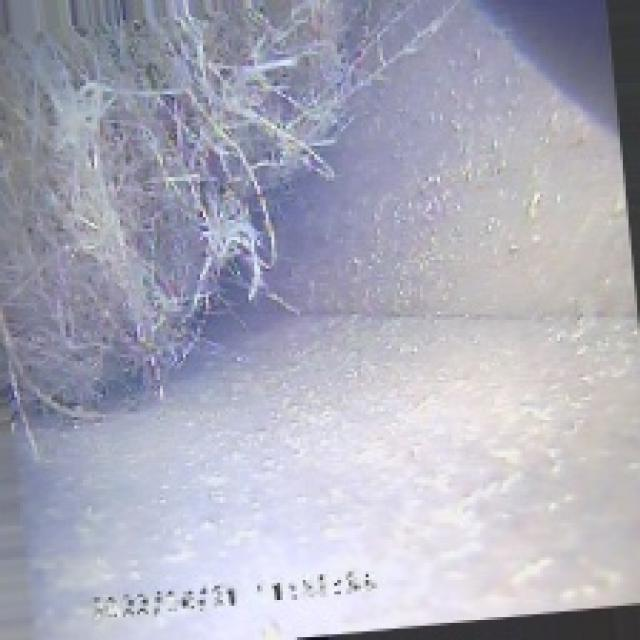Root_blockage: (34, 9, 314, 388)
